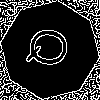Q: (25, 25, 79, 71)
